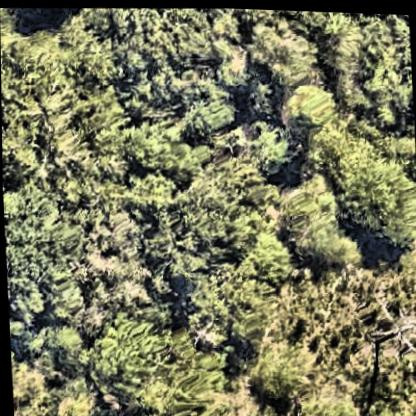tree-top: (86, 318, 219, 416), (2, 182, 82, 309), (324, 9, 412, 120), (278, 172, 354, 286), (188, 260, 271, 339), (246, 13, 316, 81), (247, 334, 314, 402), (242, 225, 297, 284), (247, 114, 294, 176)
